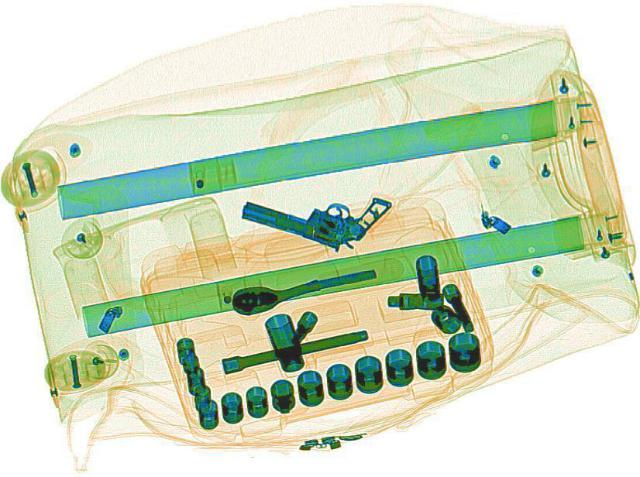Gun: (232, 165, 394, 256)
